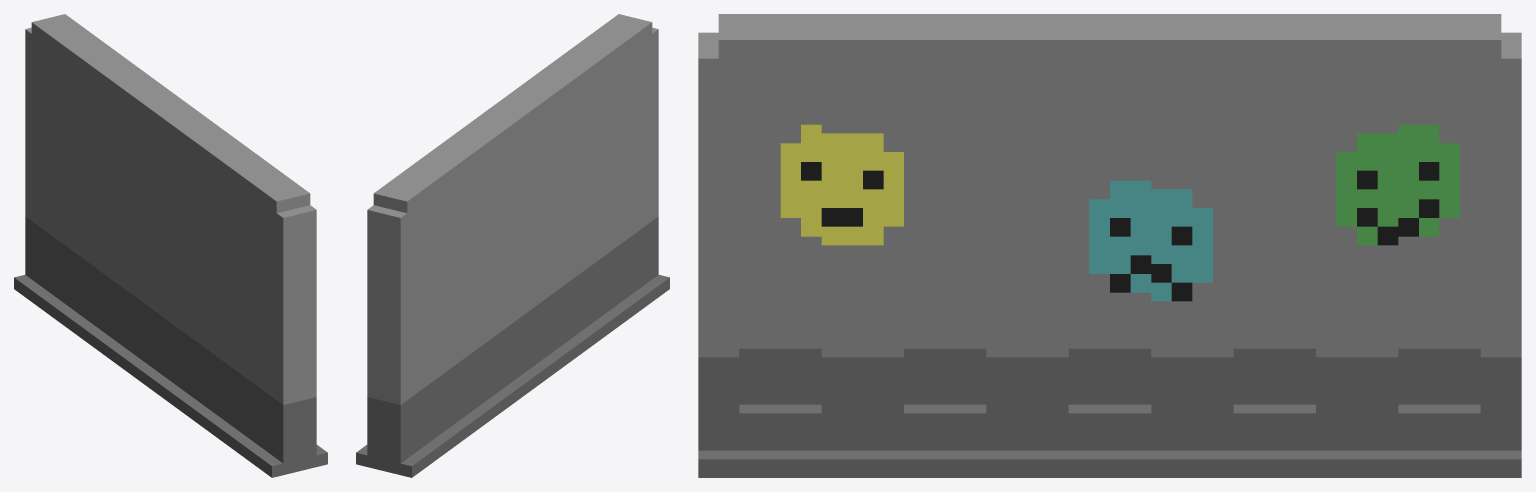
File: All-21-Zabor_2.obj
3 views of the same model, side by side, from view 1: azimuth 30°, elevation 25°; view 2: azimuth 150°, elevation 25°; view 3: azimuth 270°, elevation 25° (orthographic). The views are drawn at different scales.
Parts seen in each view (by area): view 1: Zabor_2; view 2: Zabor_2; view 3: Zabor_2.
Part boxes in pixels (box(x1,y1,x2,y2)): Zabor_2: box(14, 14, 327, 477); Zabor_2: box(356, 14, 669, 477); Zabor_2: box(698, 14, 1521, 477).
Bounding box in the file's own units: 0.5 × 2.3 × 4.
Materials: 1 (1 with a texture image).
